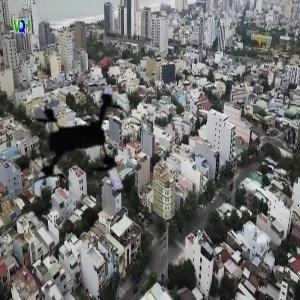drone: (15, 83, 152, 220)
